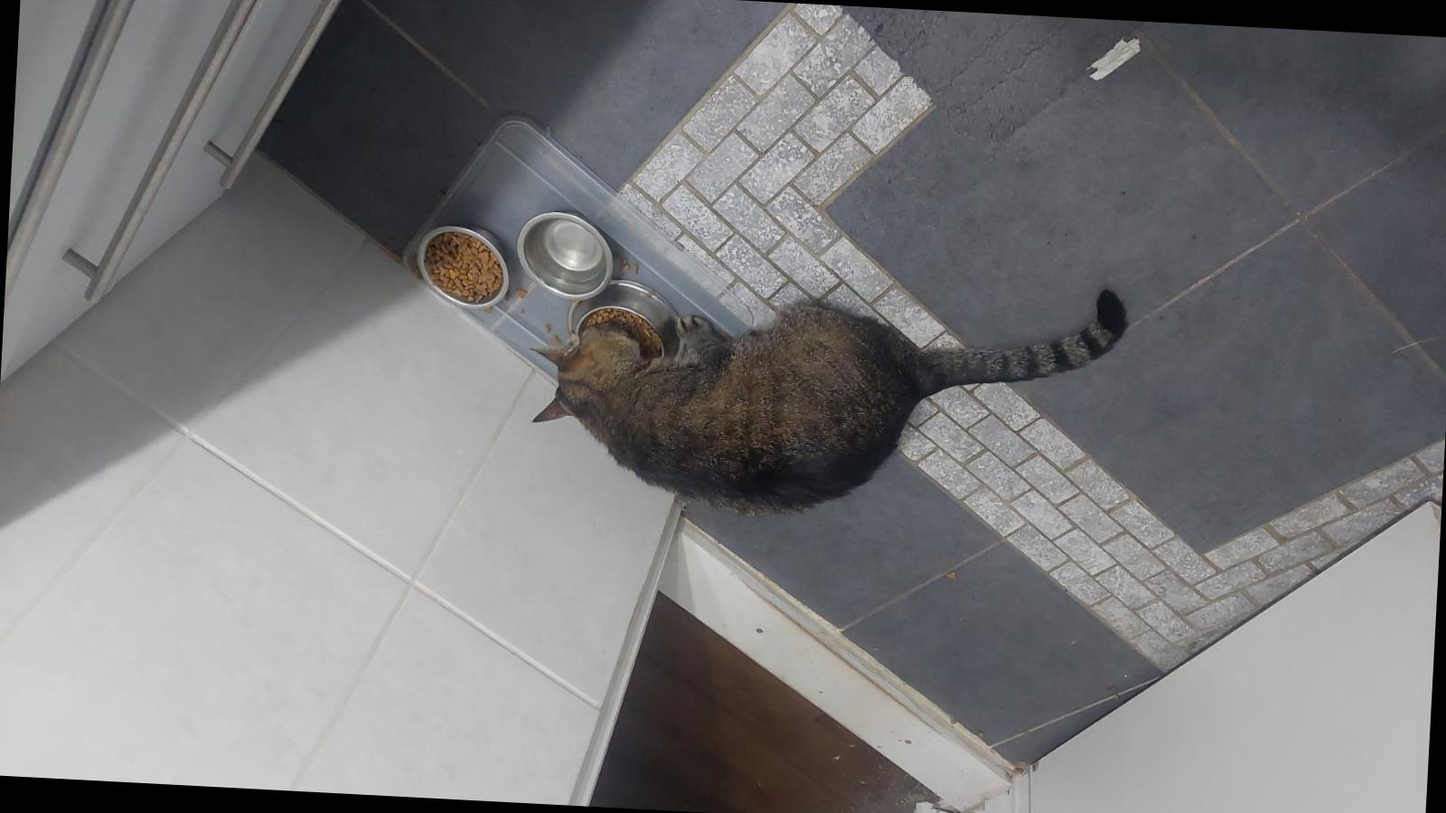macka: (525, 255, 1127, 533)
